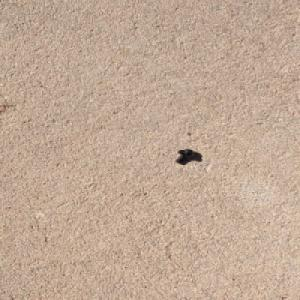BoltWasher: (174, 148, 195, 163)
